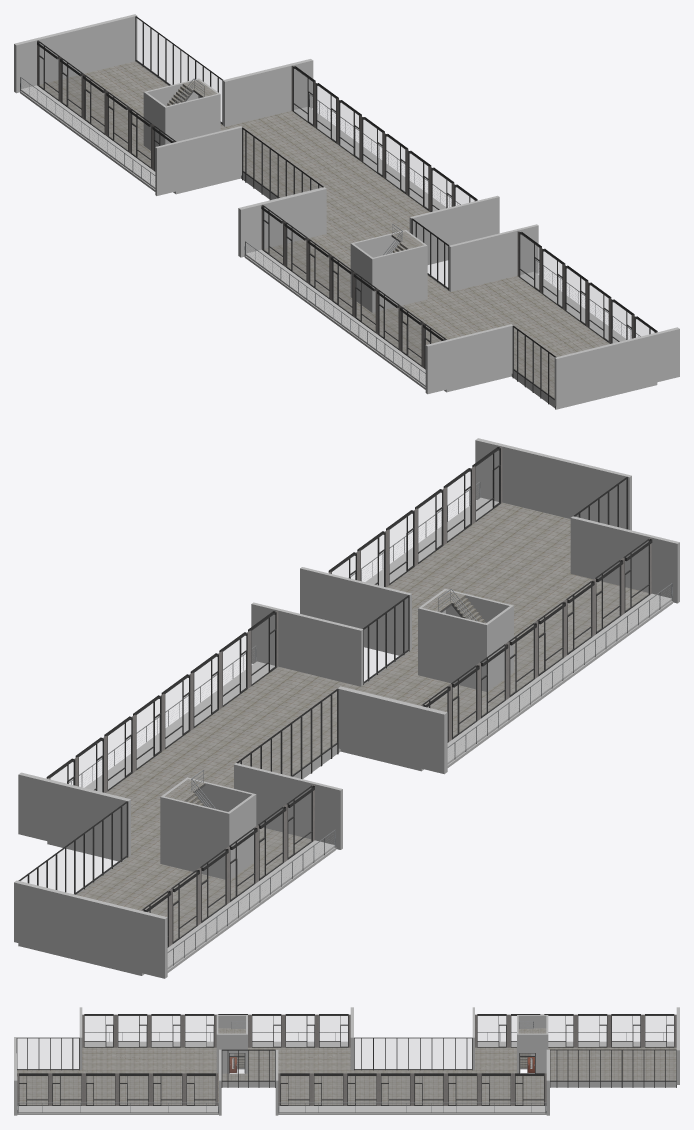
File: sm_government_building_5f.FBX
3 views of the same model, one above another, from view 1: azimuth 30°, elevation 25°; view 2: azimuth 150°, elevation 25°; view 3: azimuth 270°, elevation 25° (orthographic). The views are drawn at different scales.
Visible parts, largest first — view 1: sm_government_building_5f; view 2: sm_government_building_5f; view 3: sm_government_building_5f.
Boxes of the visible parts, bbox=[...] form: sm_government_building_5f: bbox=[14, 14, 679, 409]; sm_government_building_5f: bbox=[14, 438, 679, 978]; sm_government_building_5f: bbox=[14, 1007, 679, 1115].
Size of the model in its own units: 1992 by 660 by 7638.
